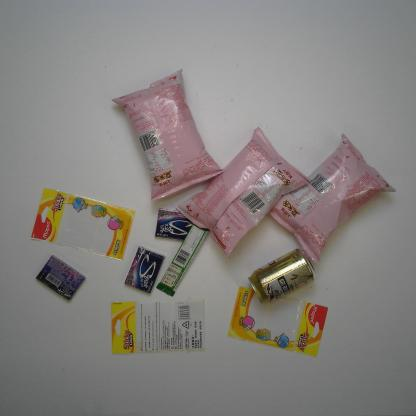Alcohol: (246, 245, 320, 307)
Chocolate: (154, 216, 211, 298)
Gum: (34, 254, 86, 302), (123, 245, 166, 295), (153, 208, 208, 244)
Puffed Food: (174, 125, 312, 261), (258, 131, 398, 264), (109, 66, 227, 204)
Stationery: (30, 185, 137, 264), (224, 284, 330, 360), (109, 296, 207, 357)
